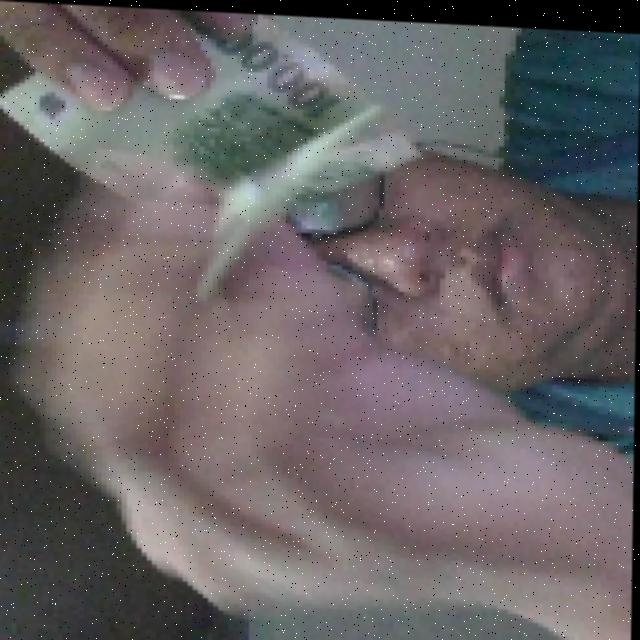100 000 VND: (0, 0, 423, 229)
